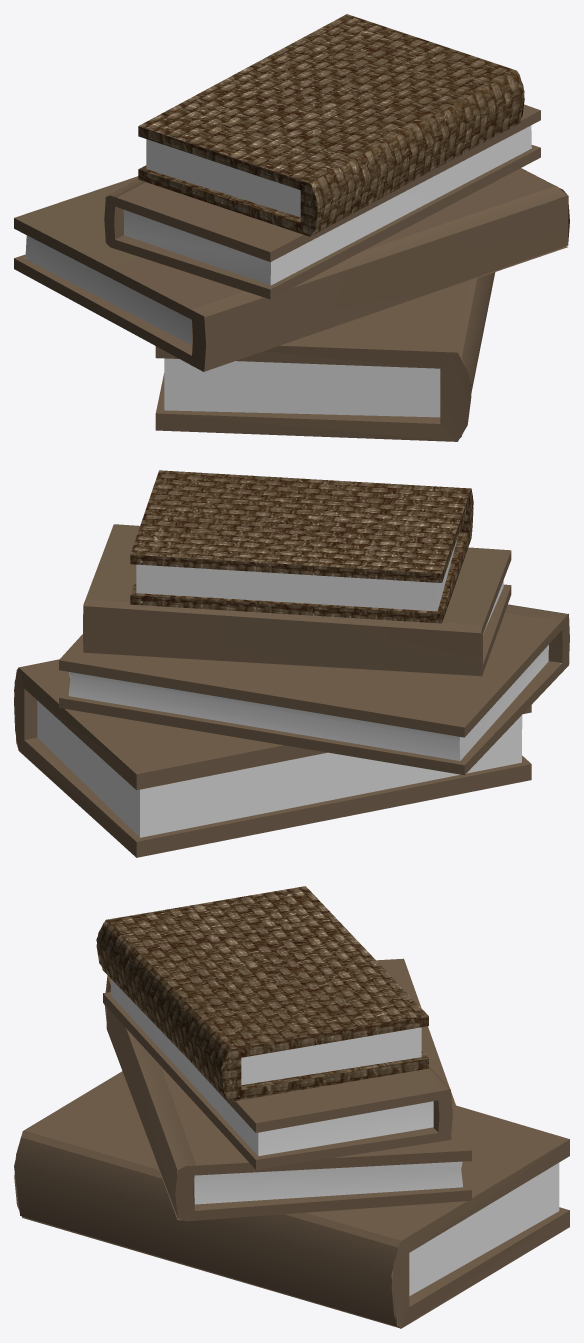
File: Books.fbx
3 renders of one model, top to bottom at view 1: azimuth 30°, elevation 25°; view 2: azimuth 150°, elevation 25°; view 3: azimuth 270°, elevation 25°, orthographic. The views are drawn at different scales.
Visible parts, largest first — view 1: Book_style_4; view 2: Book_style_4; view 3: Book_style_4.
Part boxes in pixels (left/top/right/bottom): Book_style_4: left=14, top=14, right=569, bottom=441; Book_style_4: left=14, top=470, right=569, bottom=857; Book_style_4: left=14, top=886, right=569, bottom=1328.
Bounding box in the file's own units: 47.36 × 23.42 × 47.46.
2 materials, 1 textured.
